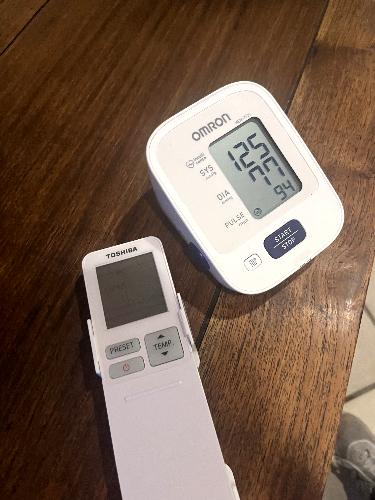bpm: (206, 113, 307, 224)
